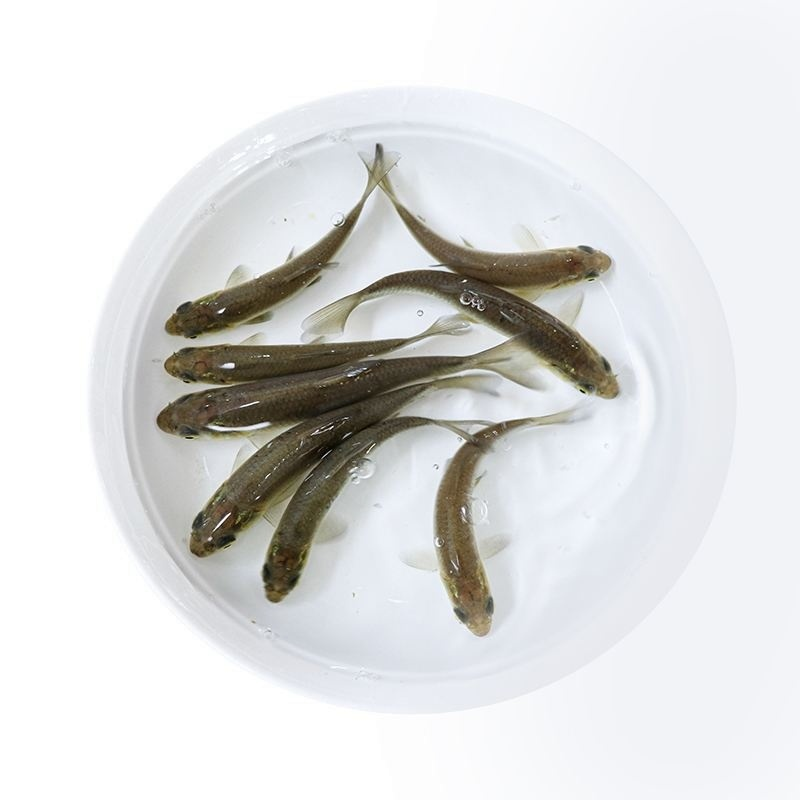fry: (413, 268, 646, 410), (416, 414, 548, 650), (136, 219, 315, 342), (406, 193, 619, 296), (239, 458, 346, 617), (172, 433, 280, 561), (154, 333, 384, 384), (148, 370, 306, 443)
